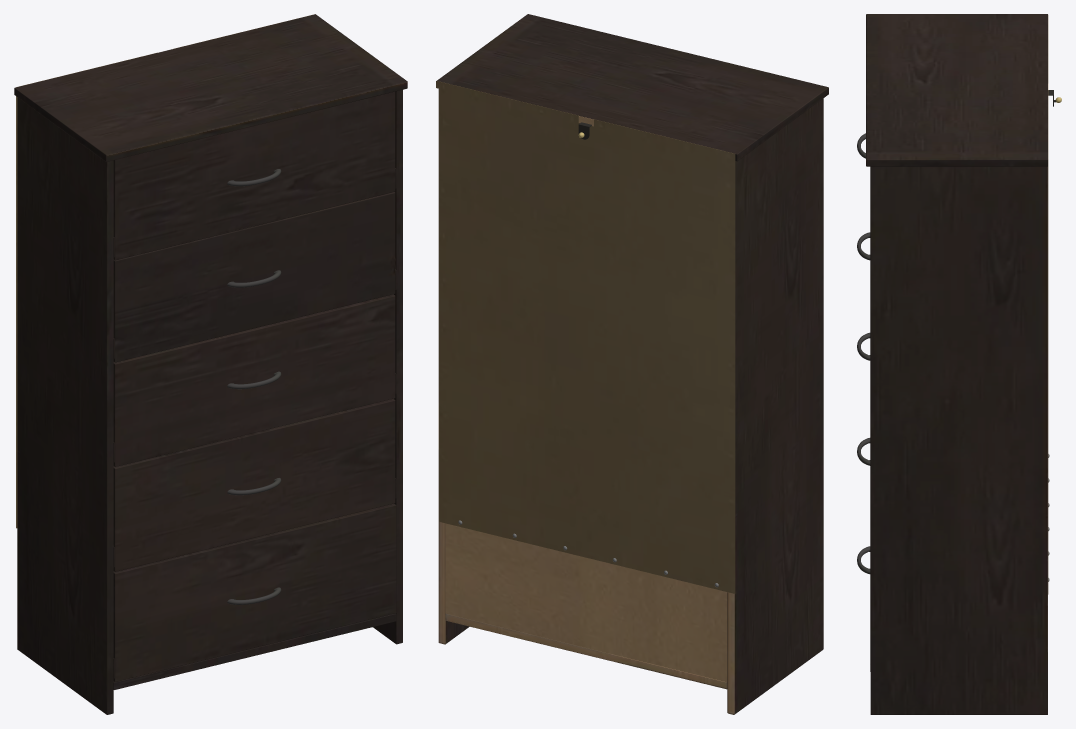
Rendered from abo-B07PYKPBY9.glb.
3 views of the same model, side by side, from view 1: azimuth 30°, elevation 25°; view 2: azimuth 150°, elevation 25°; view 3: azimuth 270°, elevation 25° (orthographic).
Bounding box in the file's own units: 0.704 × 1.25 × 0.418.
1 material, 1 textured.
